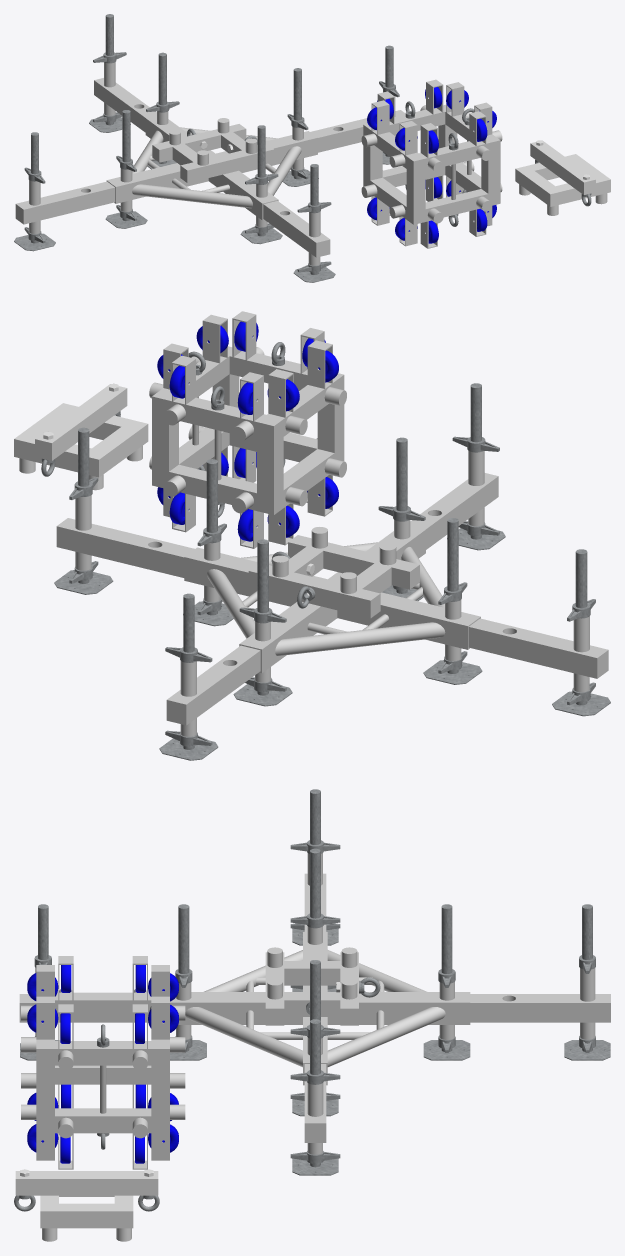
File: Eurotruss_Tower_Components-u3593c59.glb
The picture shows the model from 3 angles, top to bottom: view 1: azimuth 30°, elevation 25°; view 2: azimuth 150°, elevation 25°; view 3: azimuth 270°, elevation 25°; orthographic projection. The views are drawn at different scales.
Visible parts, largest first — view 1: Geom3D (×10), Geom3D_ (×5); view 2: Geom3D (×10), Geom3D_ (×5); view 3: Geom3D (×10), Geom3D_ (×5).
Part boxes in pixels (x1,y1,x2,y2): Geom3D (×10): (14, 14, 502, 282); Geom3D_ (×5): (15, 62, 610, 265); Geom3D (×10): (54, 311, 610, 760); Geom3D_ (×5): (14, 384, 608, 736); Geom3D (×10): (20, 789, 610, 1175); Geom3D_ (×5): (15, 853, 610, 1241).
Size of the model in its own units: 2.41 by 0.56 by 1.92.
Materials: 5 (1 with a texture image).
